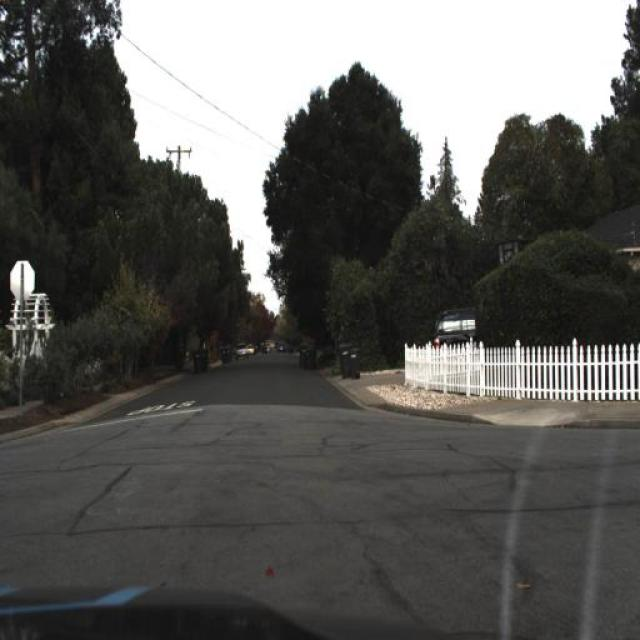car: (433, 300, 478, 350), (236, 342, 248, 359)
